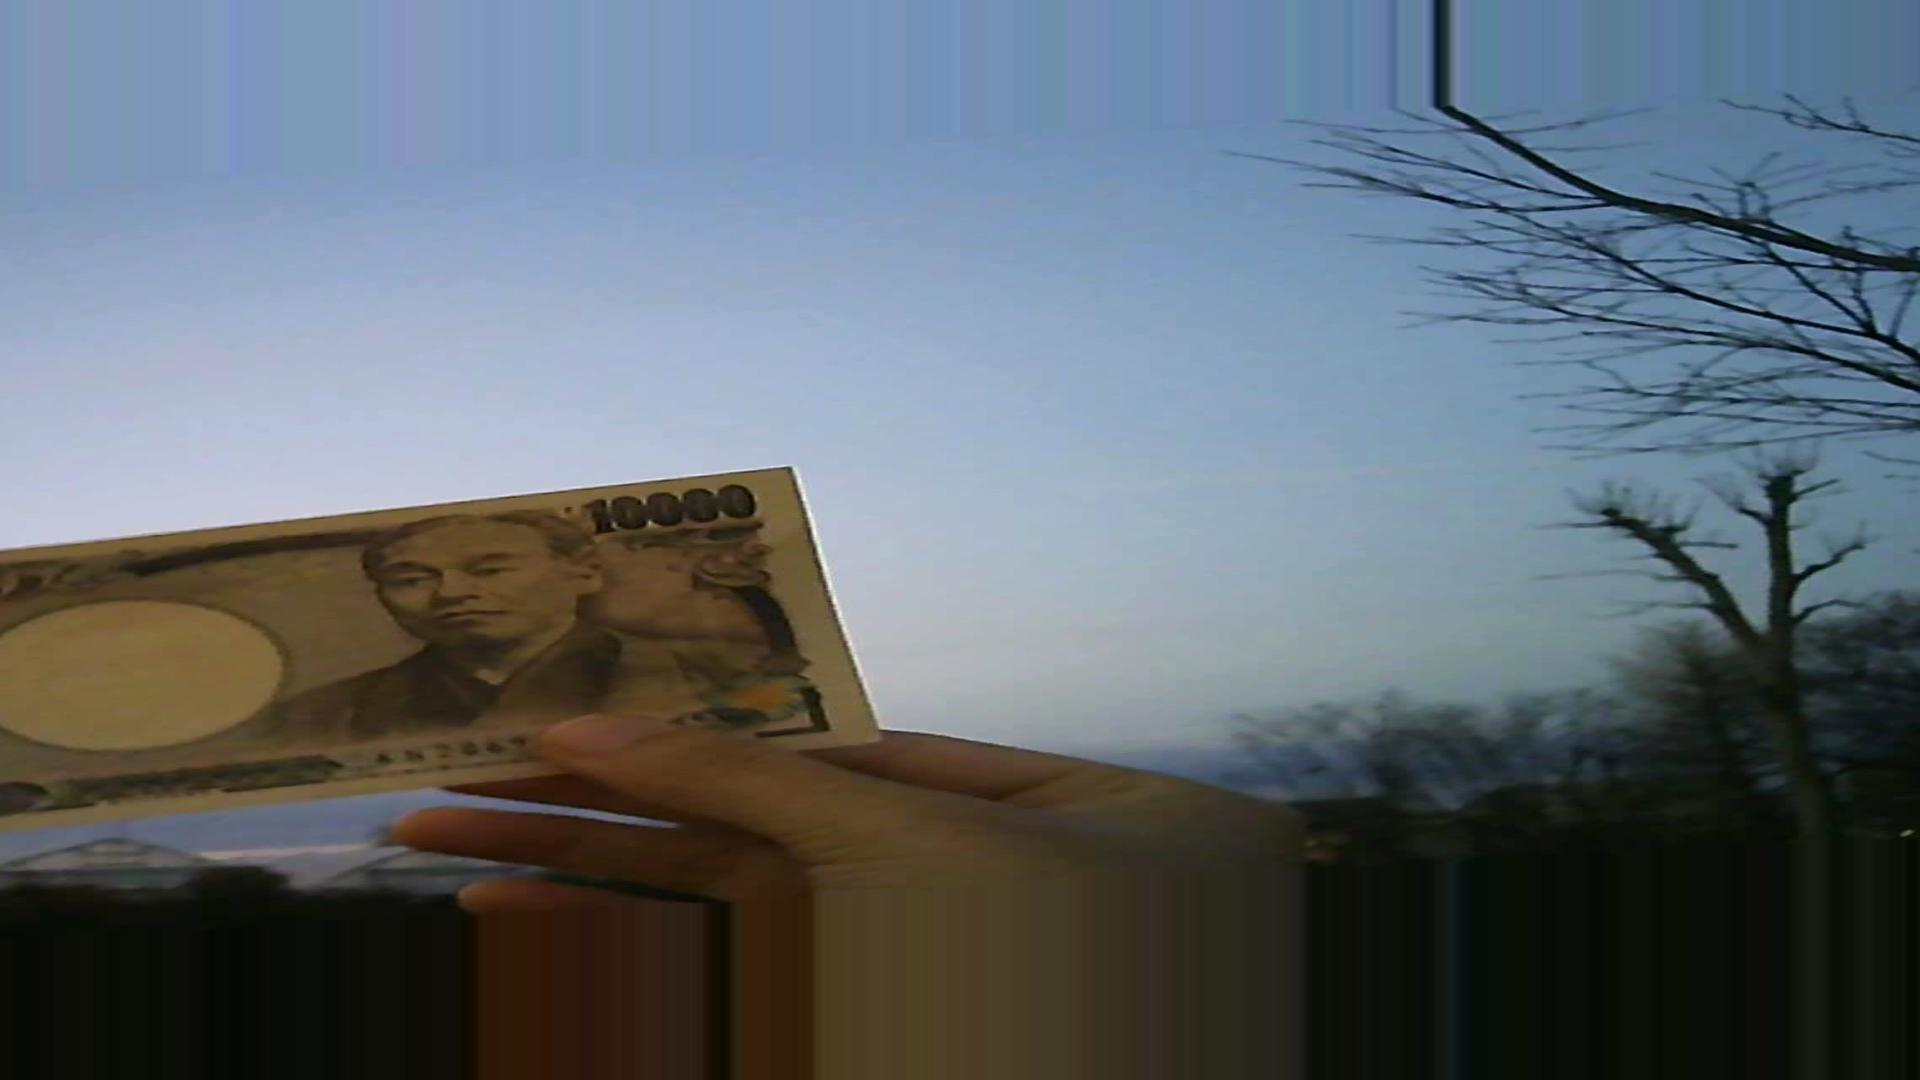10,000 Yen: (30, 465, 895, 785)
